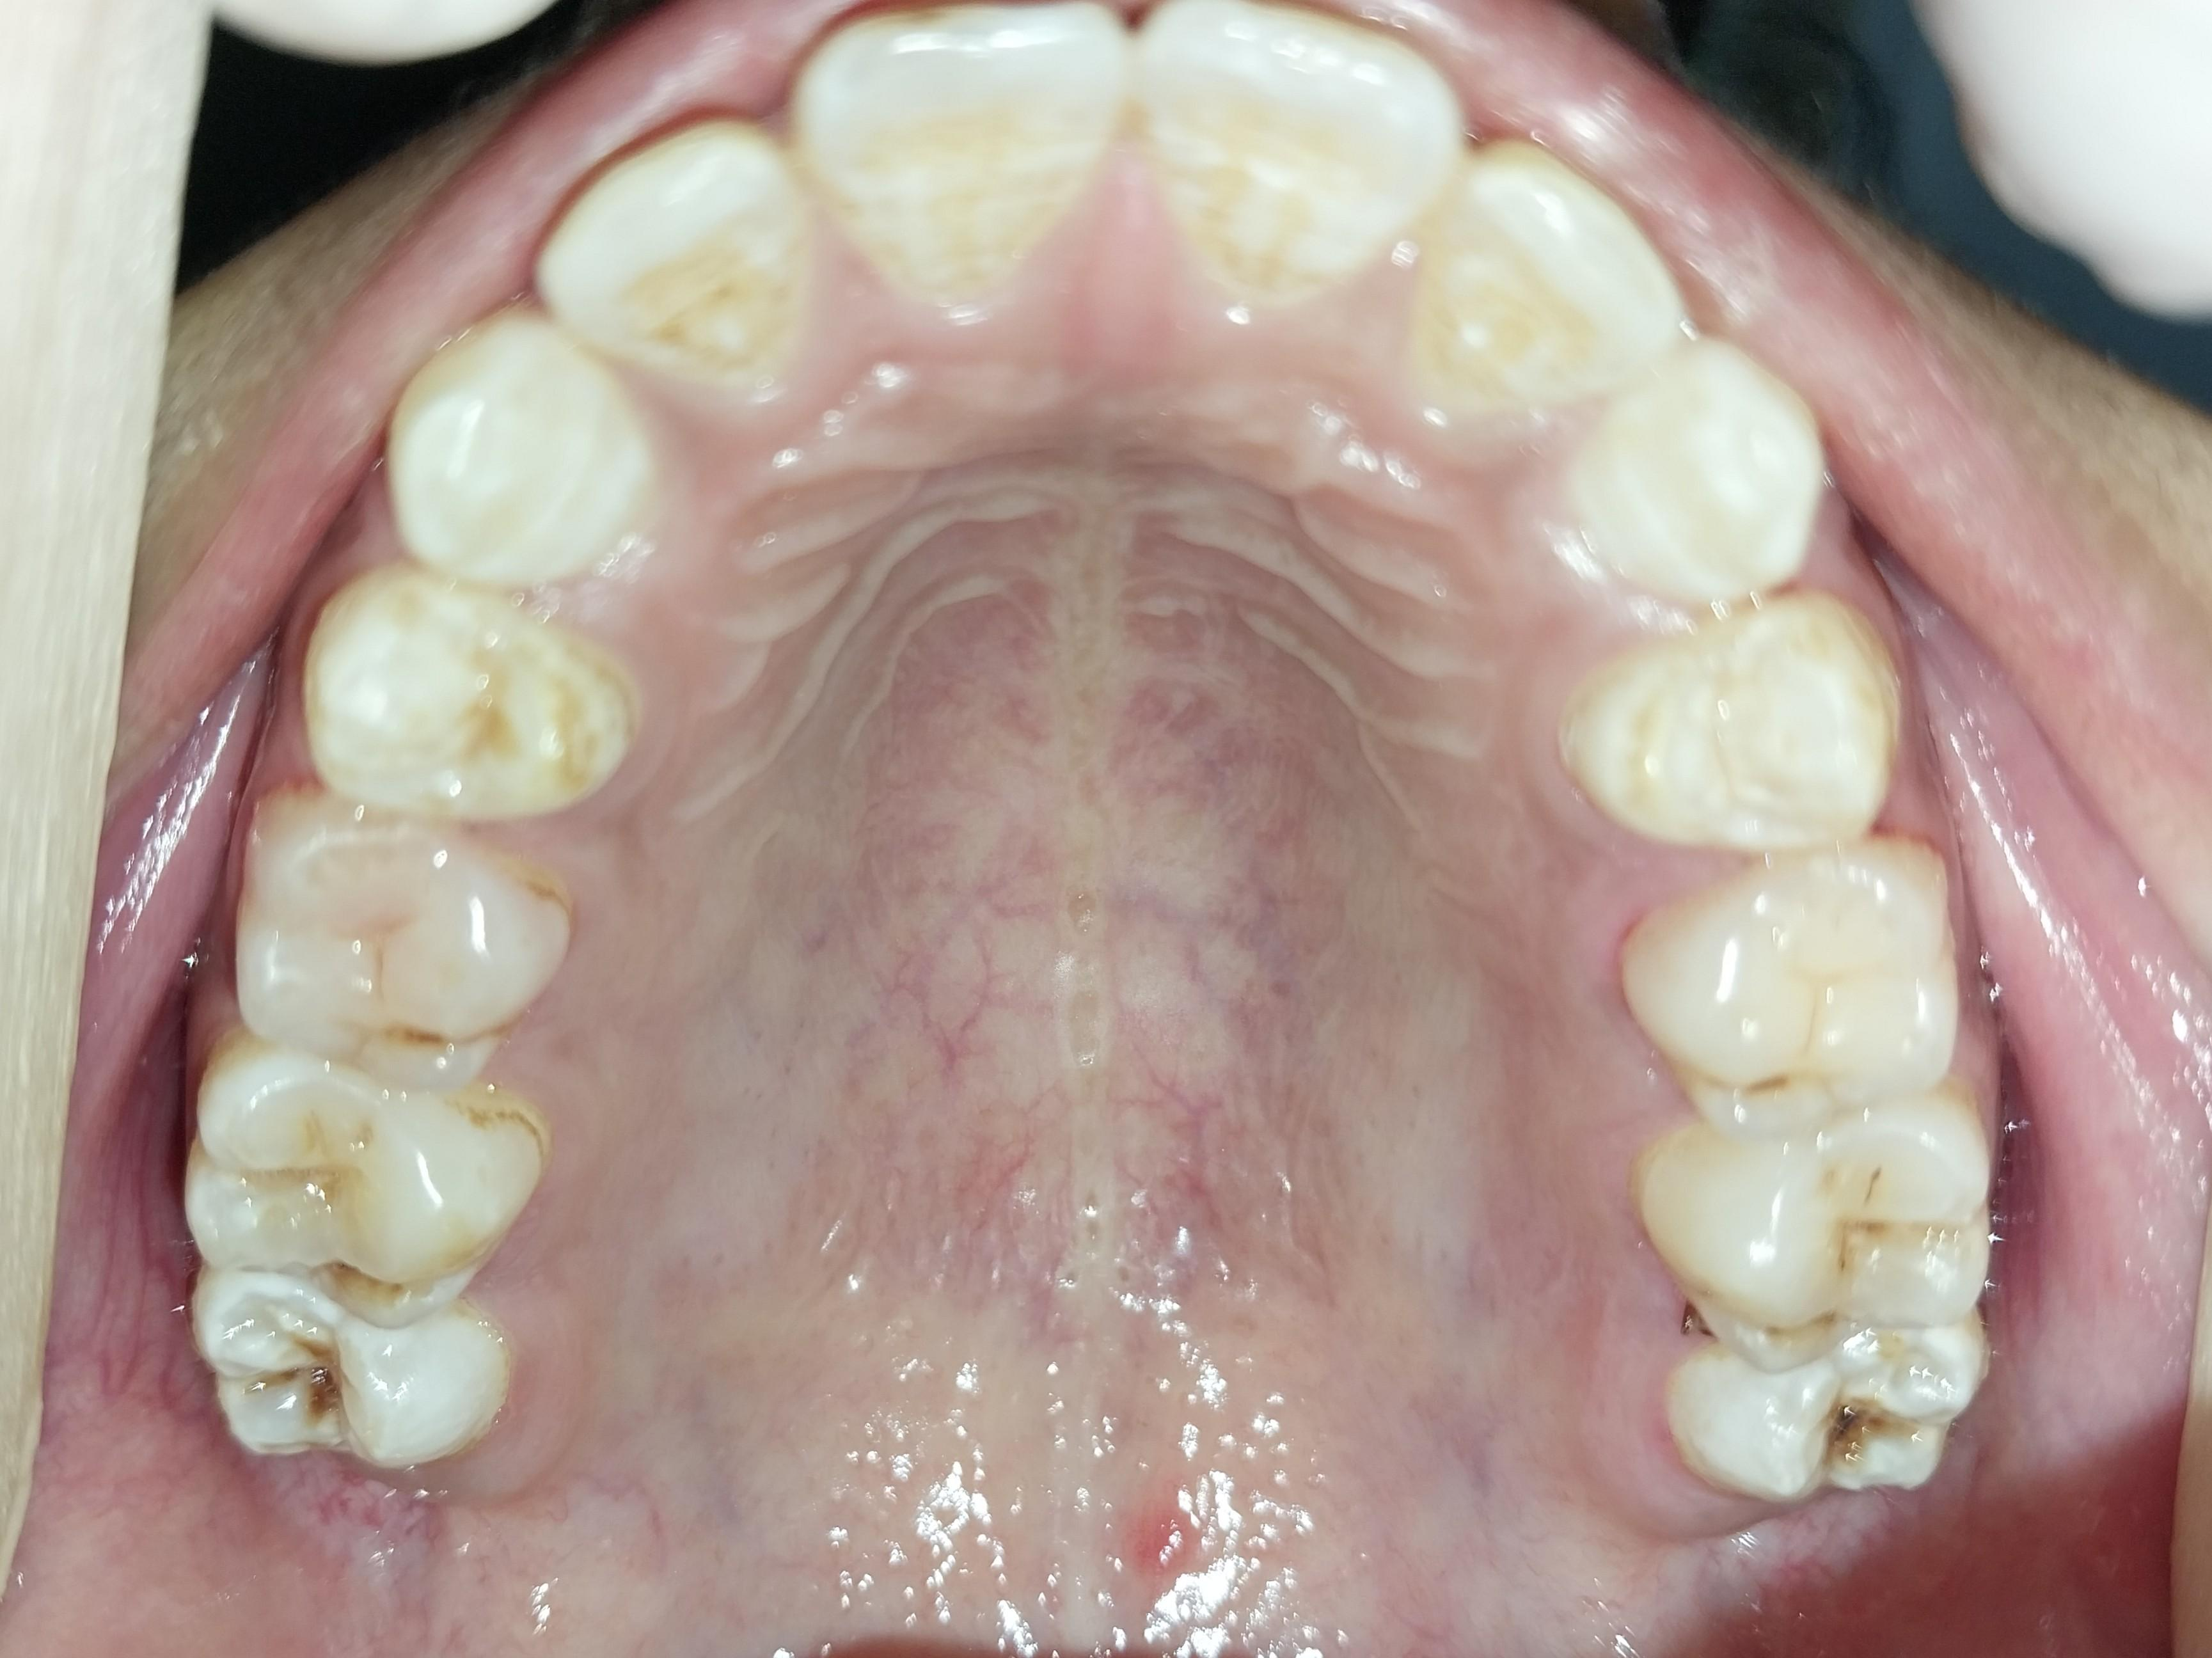D: (1652, 1110, 1993, 1361), (172, 1268, 527, 1486), (1667, 1326, 1981, 1506)
